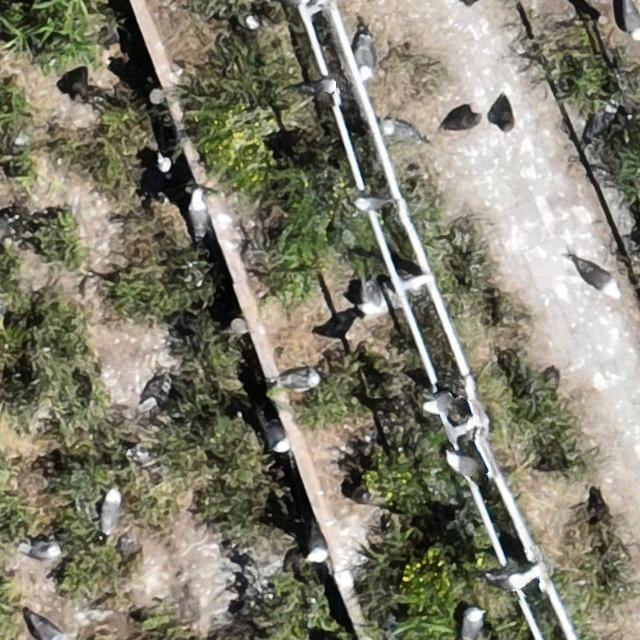umineko: (187, 189, 208, 245), (583, 266, 615, 292), (100, 491, 120, 532), (156, 152, 179, 187), (491, 570, 525, 592), (357, 38, 376, 75), (306, 529, 327, 562), (280, 370, 316, 389), (361, 282, 383, 313), (25, 542, 61, 559), (388, 122, 420, 141), (34, 619, 64, 639), (462, 611, 481, 640), (267, 426, 288, 450), (448, 454, 474, 473), (308, 80, 338, 96), (425, 396, 451, 412), (355, 196, 384, 210)
